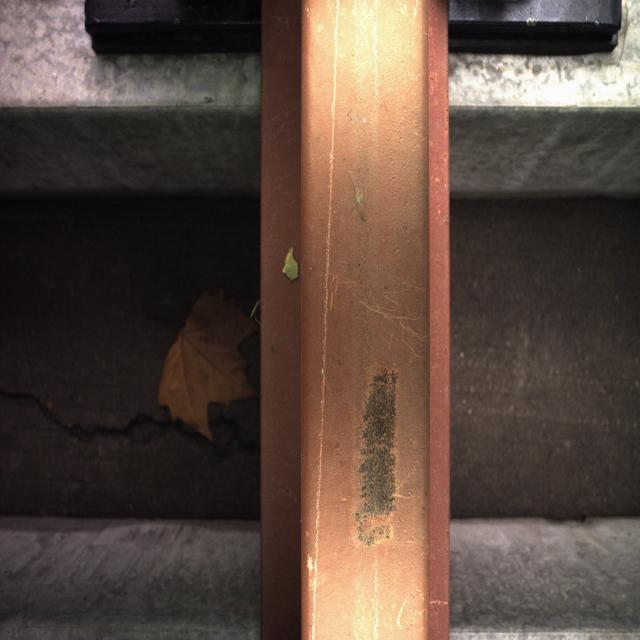scar: (341, 330, 430, 574)
